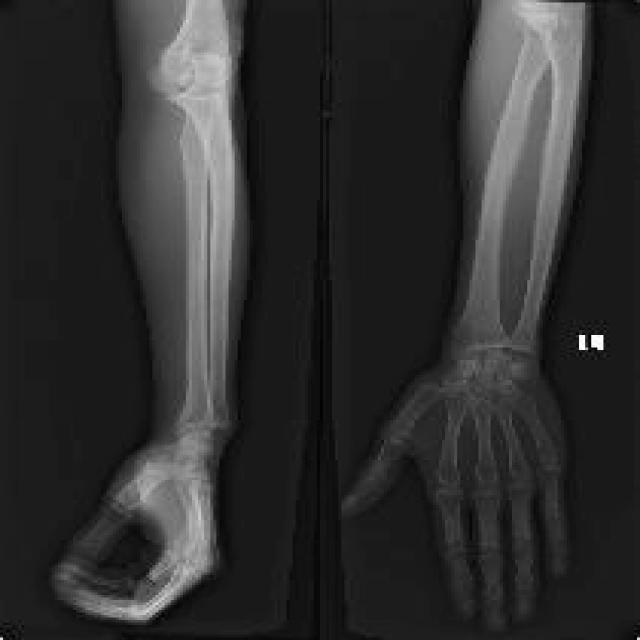normal: (343, 1, 583, 629), (78, 0, 244, 622)
